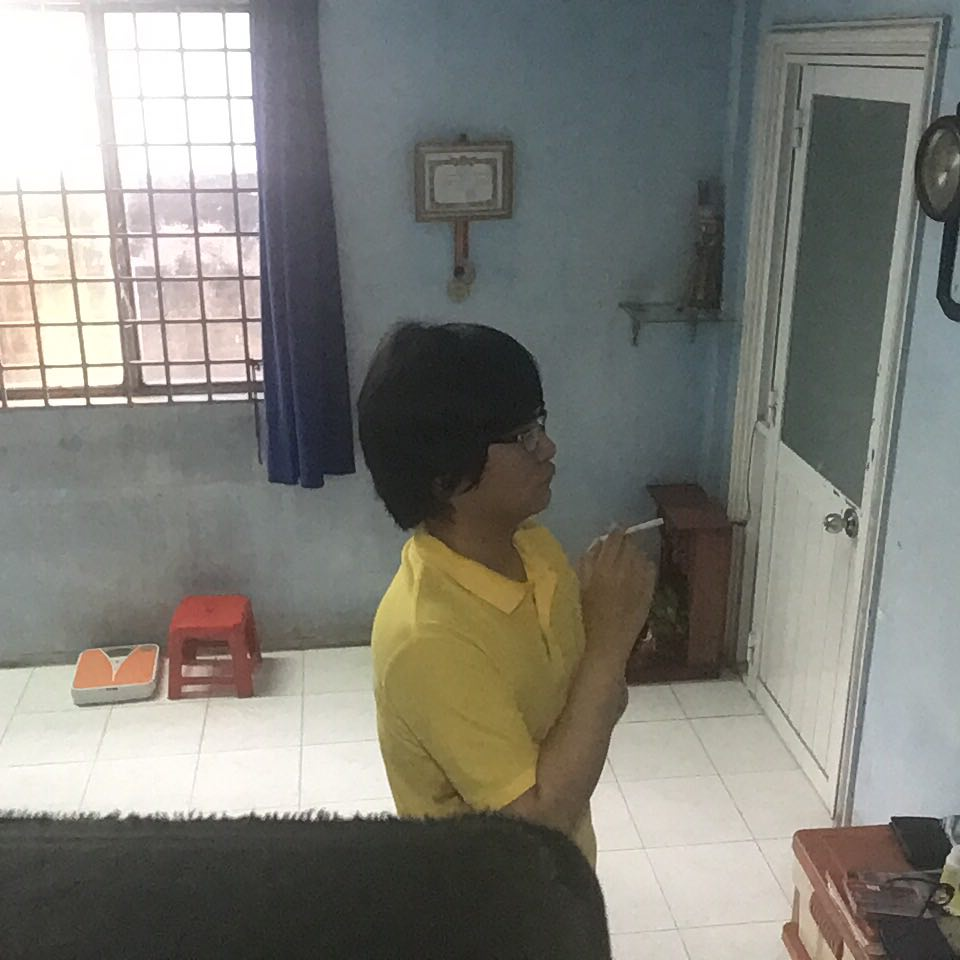cigarette: (625, 512, 670, 539)
person: (350, 313, 673, 905)
